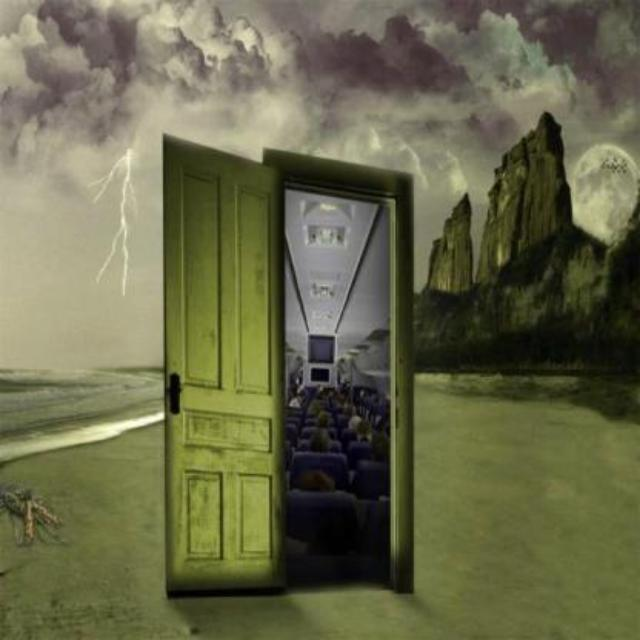door: (162, 132, 287, 595)
